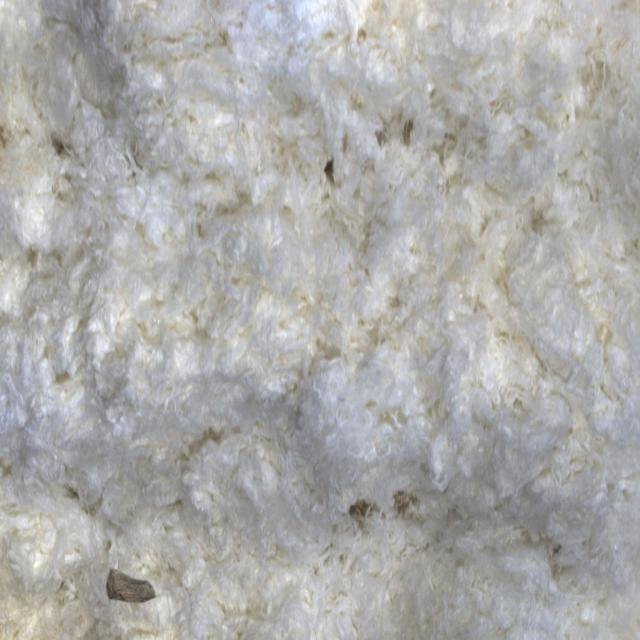dust: (72, 521, 186, 640)
